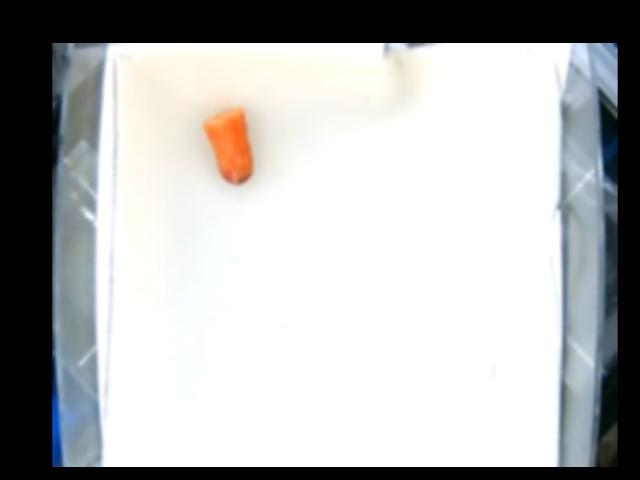Carrot: (202, 109, 252, 183)
